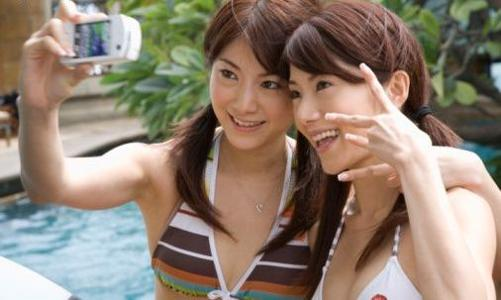person: (20, 1, 501, 300)
